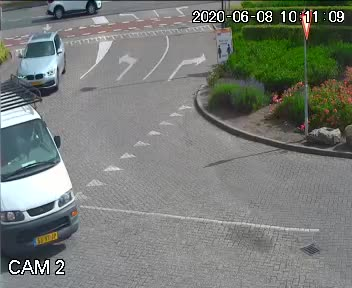car: (0, 81, 90, 261), (15, 24, 66, 96), (37, 0, 107, 17)
